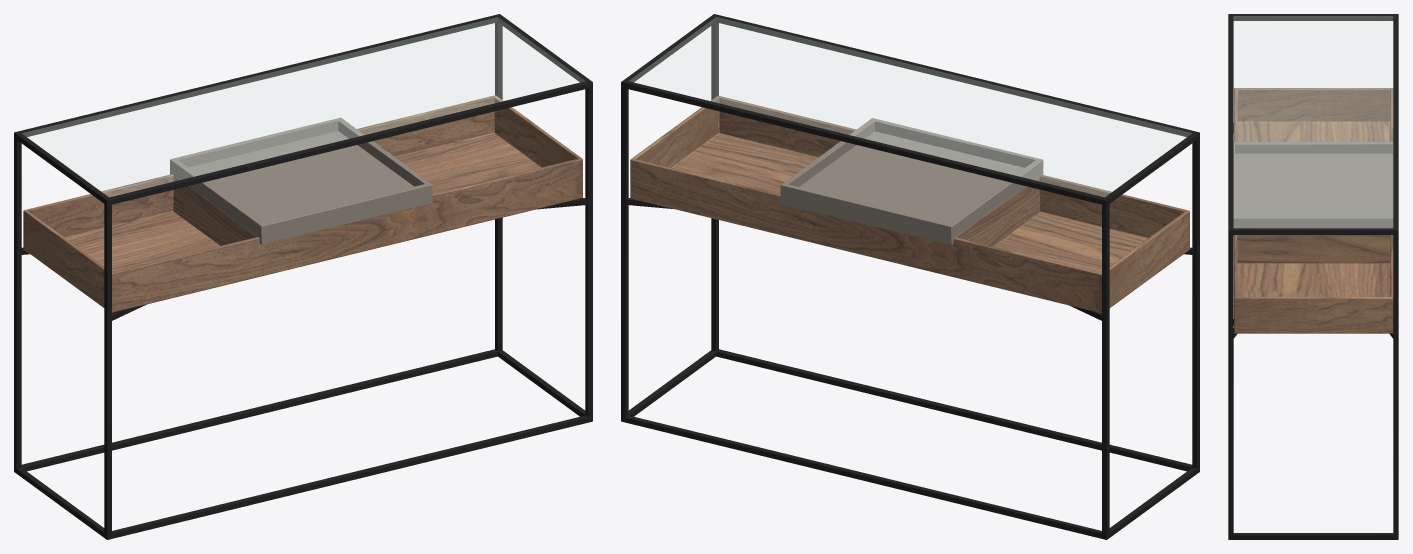
The model's file is abo_B072ZNMKGM.glb.
3 views of the same model, side by side, from view 1: azimuth 30°, elevation 25°; view 2: azimuth 150°, elevation 25°; view 3: azimuth 270°, elevation 25° (orthographic). The views are drawn at different scales.
Parts seen in each view (by area): view 1: B072ZNMKGM; view 2: B072ZNMKGM; view 3: B072ZNMKGM.
Boxes of the visible parts, left/top/right/bottom form: B072ZNMKGM: left=14, top=14, right=592, bottom=539; B072ZNMKGM: left=621, top=14, right=1199, bottom=539; B072ZNMKGM: left=1228, top=14, right=1398, bottom=539.
Bounding box in the file's own units: 1.2 × 0.8001 × 0.3988.
1 material, 1 textured.
